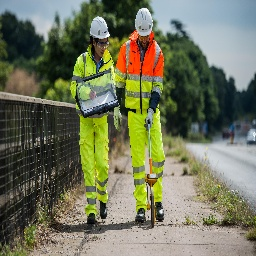helmet: (130, 6, 160, 40), (86, 14, 111, 43)
person: (117, 2, 171, 215), (67, 9, 118, 226)
vest: (120, 34, 164, 123), (71, 43, 116, 123)
